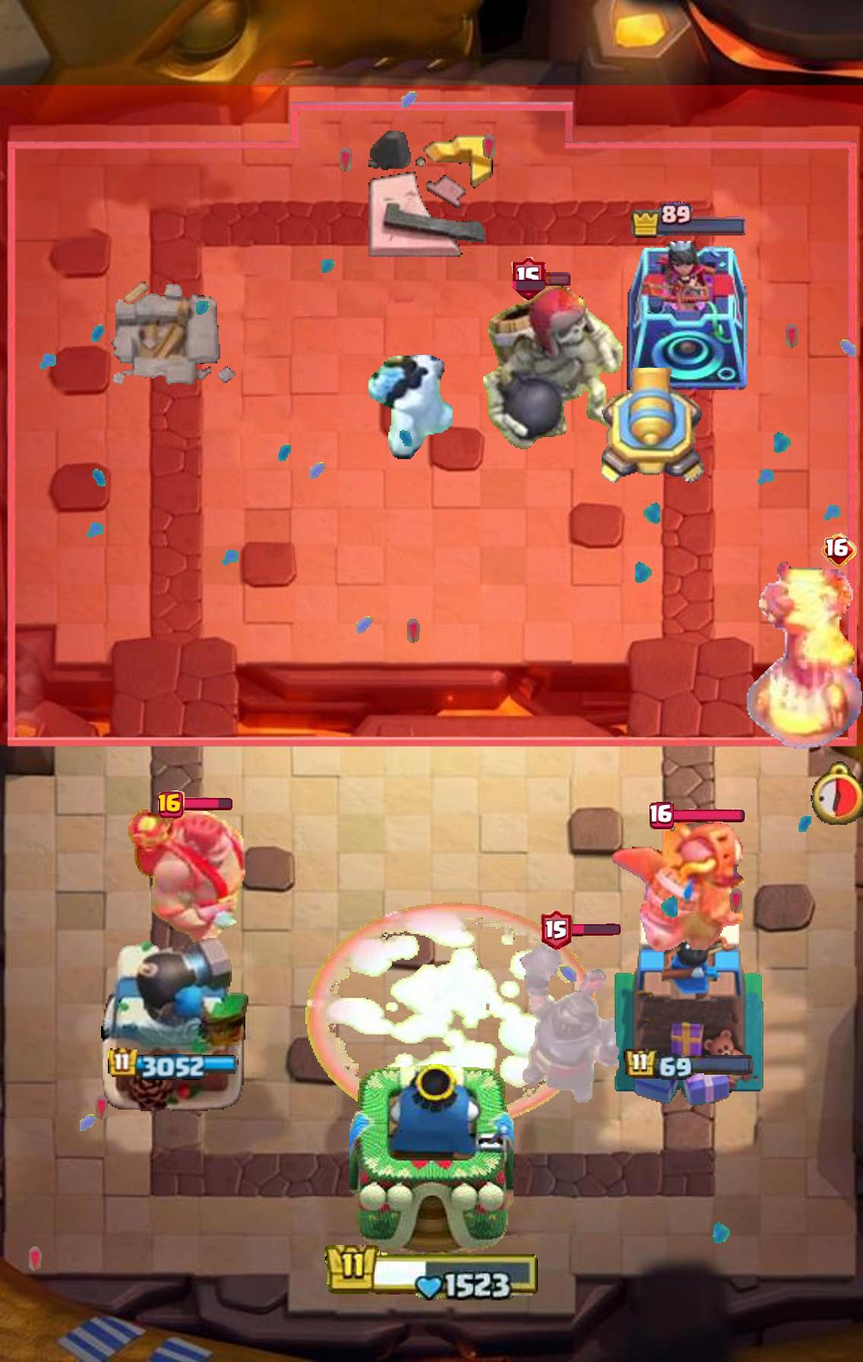bar: (670, 808, 746, 823), (181, 797, 232, 811), (569, 924, 621, 937), (542, 271, 571, 287)
bar-level: (511, 257, 546, 301), (541, 909, 573, 950), (821, 533, 857, 568), (158, 790, 185, 818), (650, 802, 674, 829)
